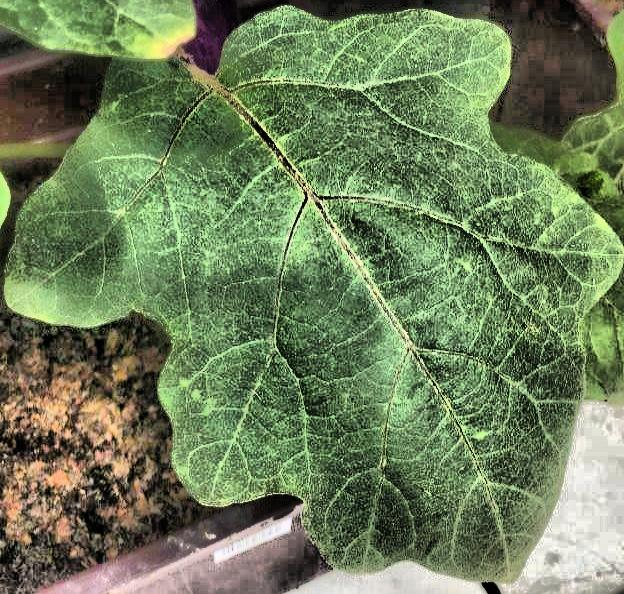HEALTHY: (1, 0, 624, 594)
